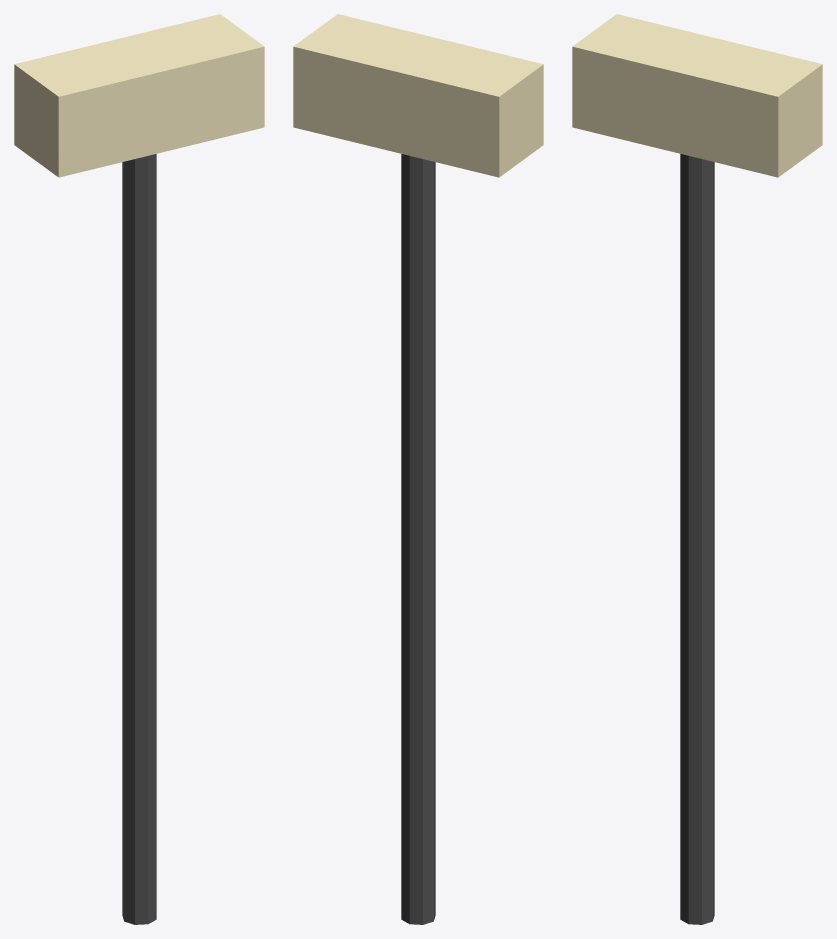
Rendered from port_lighting_tower.glb.
The picture shows the model from 3 angles, left to right: view 1: azimuth 30°, elevation 25°; view 2: azimuth 150°, elevation 25°; view 3: azimuth 330°, elevation 25°; orthographic projection.
Parts seen in each view (by area): view 1: lighthead, lightpole; view 2: lighthead, lightpole; view 3: lighthead, lightpole.
Part boxes in pixels (x1,y1,x2,y2): lighthead: (14,14,264,177); lightpole: (122,154,156,924); lighthead: (293,14,543,177); lightpole: (401,154,435,924); lighthead: (572,14,822,177); lightpole: (680,154,714,924).
Size of the model in its own units: 1.6 by 6.4 by 0.5996.
